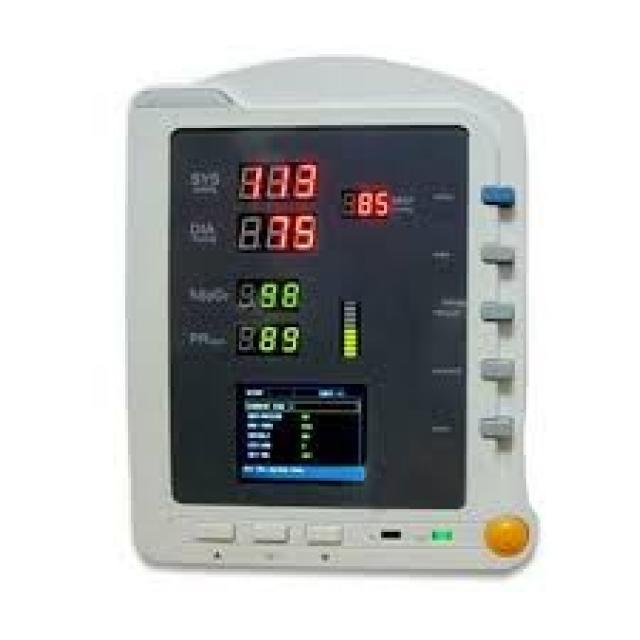cardiac_monitor: (144, 103, 517, 572)
